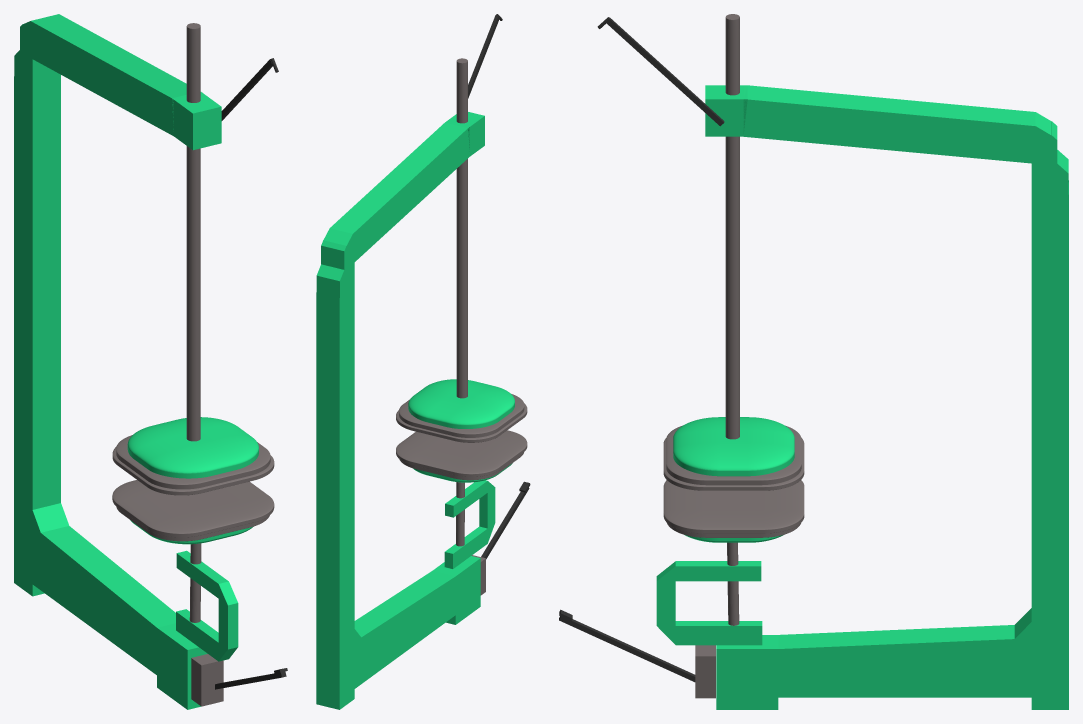
The model's file is vylkanizer.fbx.
3 views of the same model, side by side, from view 1: azimuth 30°, elevation 25°; view 2: azimuth 150°, elevation 25°; view 3: azimuth 270°, elevation 25° (orthographic). The views are drawn at different scales.
Visible parts, largest first — view 1: Cube, Cube.006, Cube.007, Cylinder, Cube.002, Cube.005, Cube.003, Cylinder.001, Cylinder.006, Cube.004; view 2: Cube, Cube.006, Cube.007, Cylinder, Cube.002, Cube.005, Cube.004, Cylinder.006, Cylinder.001; view 3: Cube, Cube.006, Cube.007, Cylinder, Cube.002, Cube.005, Cube.004, Cylinder.006, Cube.003, Cylinder.001.
Part boxes in pixels (x1,y1,x2,y2): Cube: (14,14,221,709); Cube.006: (112,480,274,541); Cube.007: (127,417,258,478); Cylinder: (186,23,200,441); Cube.002: (176,550,238,661); Cube.005: (112,435,274,495); Cube.003: (191,654,223,706); Cylinder.001: (189,543,201,622); Cylinder.006: (221,58,278,120); Cube.004: (215,668,287,689); Cube: (316,112,484,709); Cube.006: (396,430,527,480); Cube.007: (408,379,514,428); Cylinder: (456,58,467,398); Cube.002: (444,480,495,568); Cube.005: (396,394,527,442); Cube.004: (481,481,530,559); Cylinder.006: (468,14,502,98); Cylinder.001: (456,482,464,546); Cube: (705,85,1068,709); Cube.006: (663,480,804,537); Cube.007: (673,417,794,476); Cylinder: (725,14,739,439); Cube.002: (656,561,762,645); Cube.005: (663,425,804,490); Cube.004: (559,609,695,682); Cylinder.006: (597,17,724,126); Cube.003: (695,645,715,698); Cylinder.001: (727,542,739,625).
Size of the model in its own units: 89.12 by 476 by 317.
